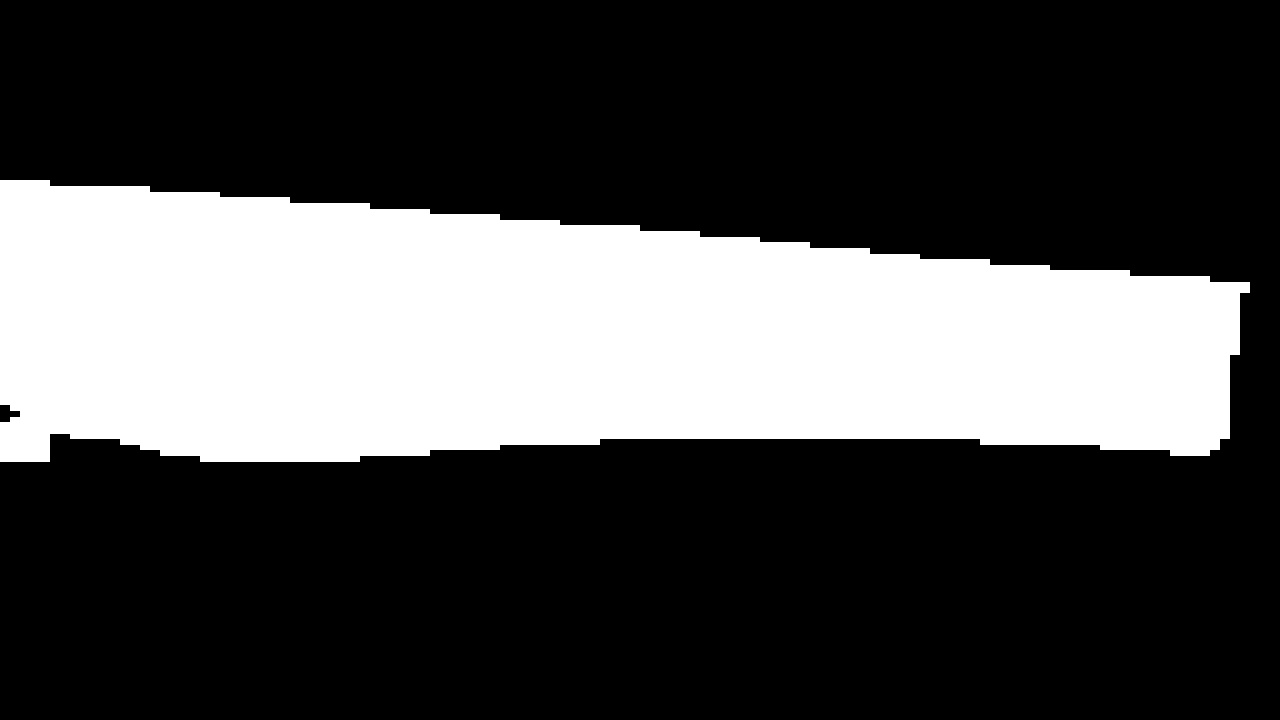Turbine: (9, 166, 1247, 470)
